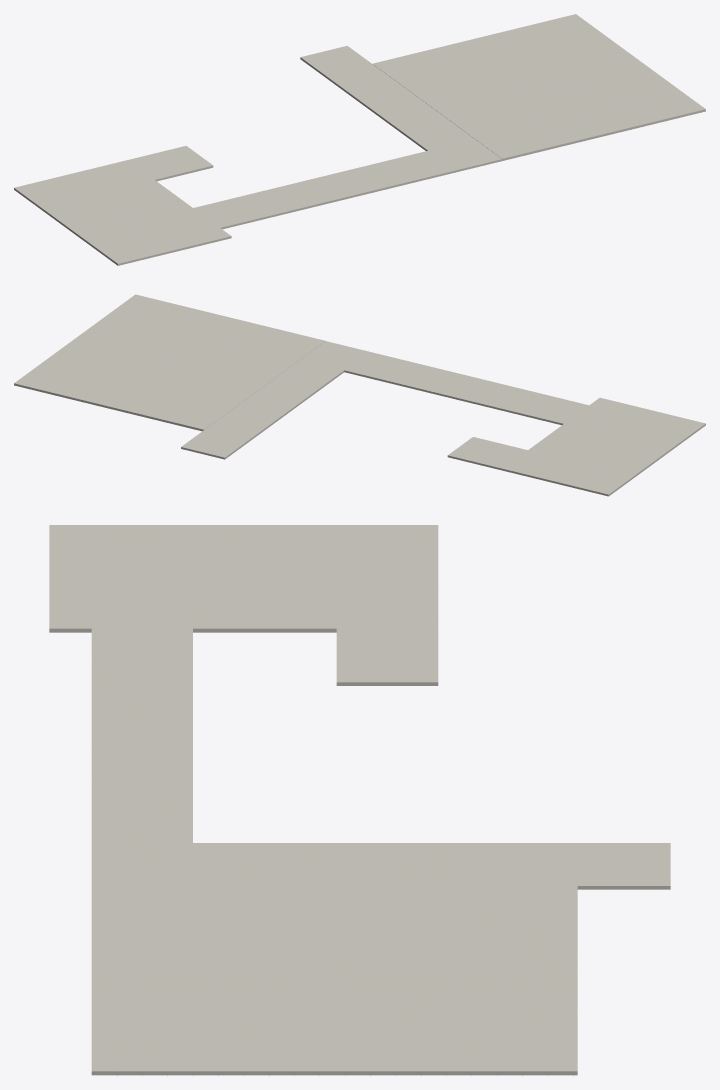
File: SM_F03_Ceilings.fbx
The picture shows the model from 3 angles, top to bottom: view 1: azimuth 30°, elevation 25°; view 2: azimuth 150°, elevation 25°; view 3: azimuth 270°, elevation 25°; orthographic projection. The views are drawn at different scales.
Visible parts, largest first — view 1: SM_F03_Ceilings; view 2: SM_F03_Ceilings; view 3: SM_F03_Ceilings.
Part boxes in pixels (bbox=[...]): SM_F03_Ceilings: bbox=[14, 14, 705, 265]; SM_F03_Ceilings: bbox=[14, 294, 705, 496]; SM_F03_Ceilings: bbox=[49, 525, 670, 1075].
Bounding box in the file's own units: 3060 × 1470 × 22.9.
5 materials, 1 textured.
